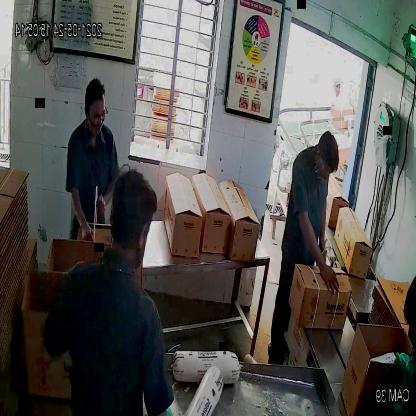goggles: (88, 105, 108, 126)
